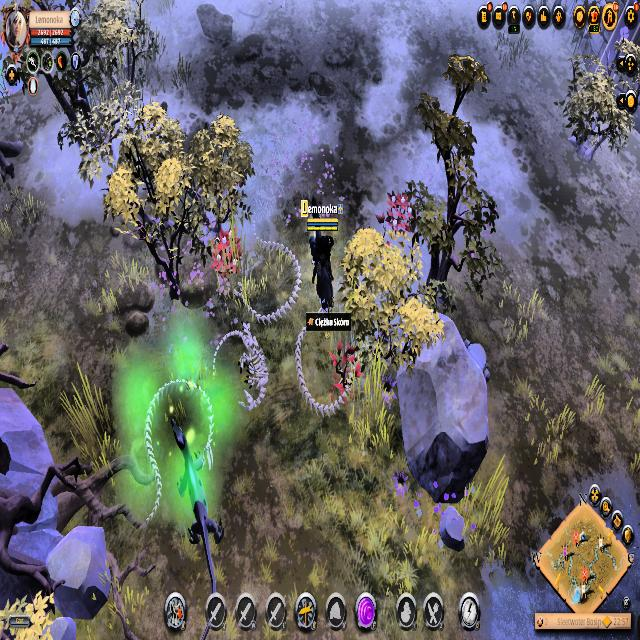fiber tier 5: (383, 189, 419, 239), (211, 227, 244, 280)
